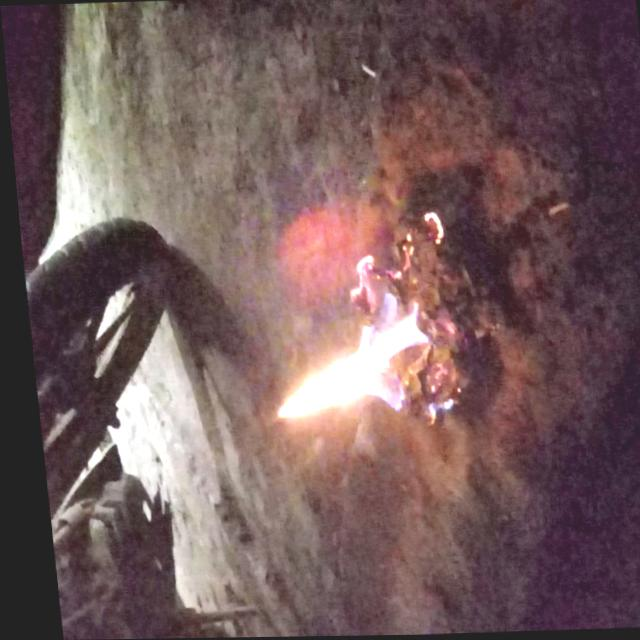helmet: (259, 311, 430, 422)
